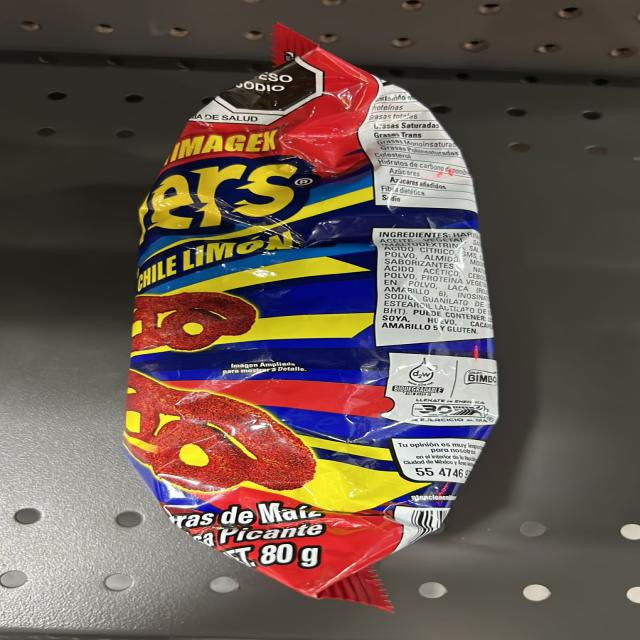runners: (119, 132, 482, 553)
